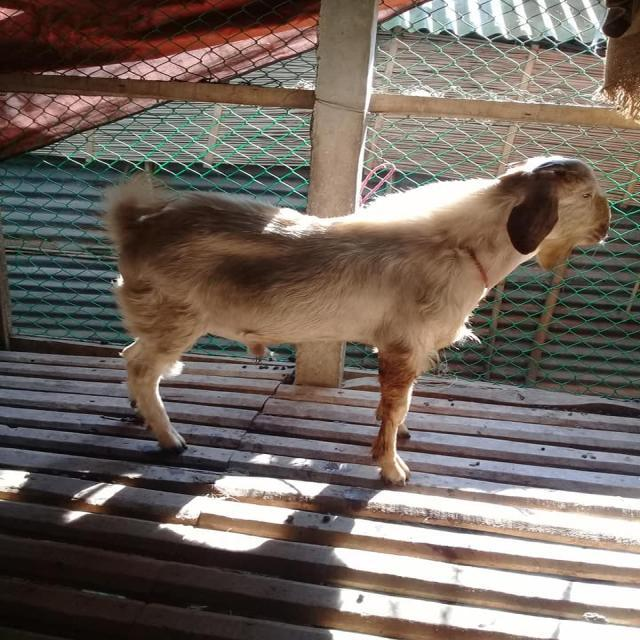Goat: (97, 153, 611, 487)
